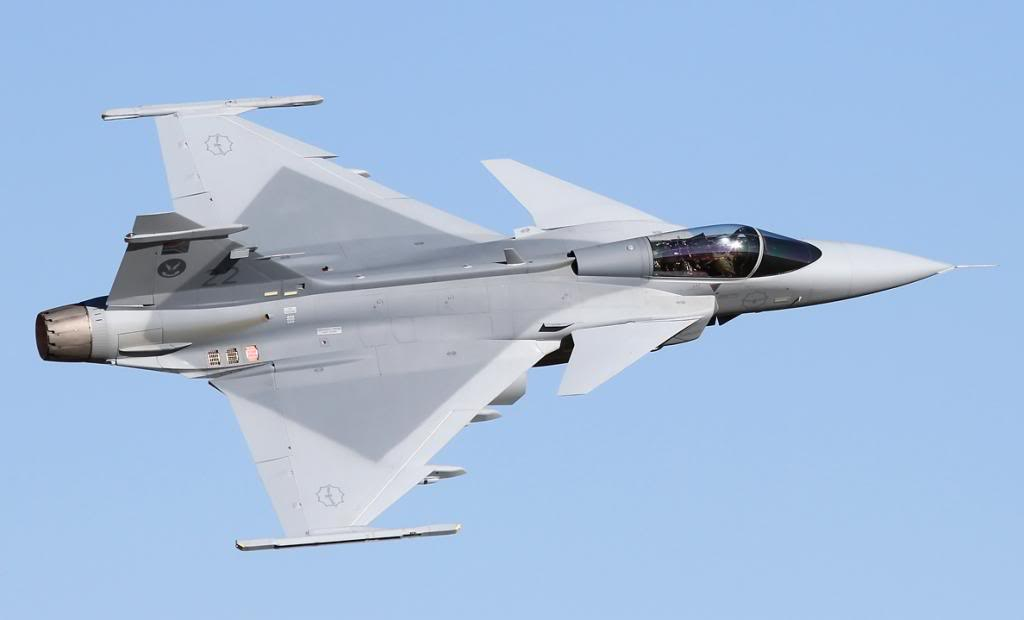JAS39: (33, 93, 1000, 552)
